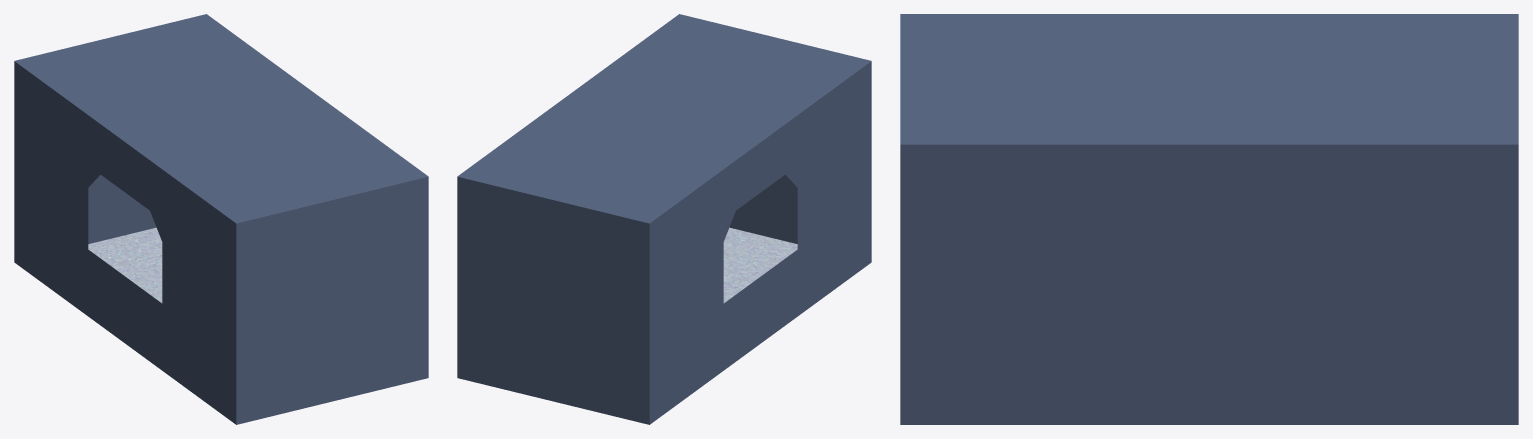
File: room.glb
3 views of the same model, side by side, from view 1: azimuth 30°, elevation 25°; view 2: azimuth 150°, elevation 25°; view 3: azimuth 270°, elevation 25° (orthographic). The views are drawn at different scales.
Parts seen in each view (by area): view 1: ceiling, window wall, wall, floor, door wall; view 2: ceiling, window wall, door wall, floor, wall; view 3: wall.001, ceiling.
Part boxes in pixels (x1,y1,x2,y2): ceiling: (14, 14, 428, 223); window wall: (14, 61, 236, 424); wall: (236, 176, 428, 424); floor: (88, 227, 162, 303); door wall: (88, 174, 156, 243); ceiling: (457, 14, 871, 223); window wall: (649, 61, 871, 424); door wall: (457, 176, 649, 424); floor: (723, 227, 797, 303); wall: (729, 174, 797, 243); wall.001: (900, 144, 1518, 424); ceiling: (900, 14, 1518, 144).
Bounding box in the file's own units: 1.83 × 1.83 × 3.66.
Materials: 2 (1 with a texture image).
